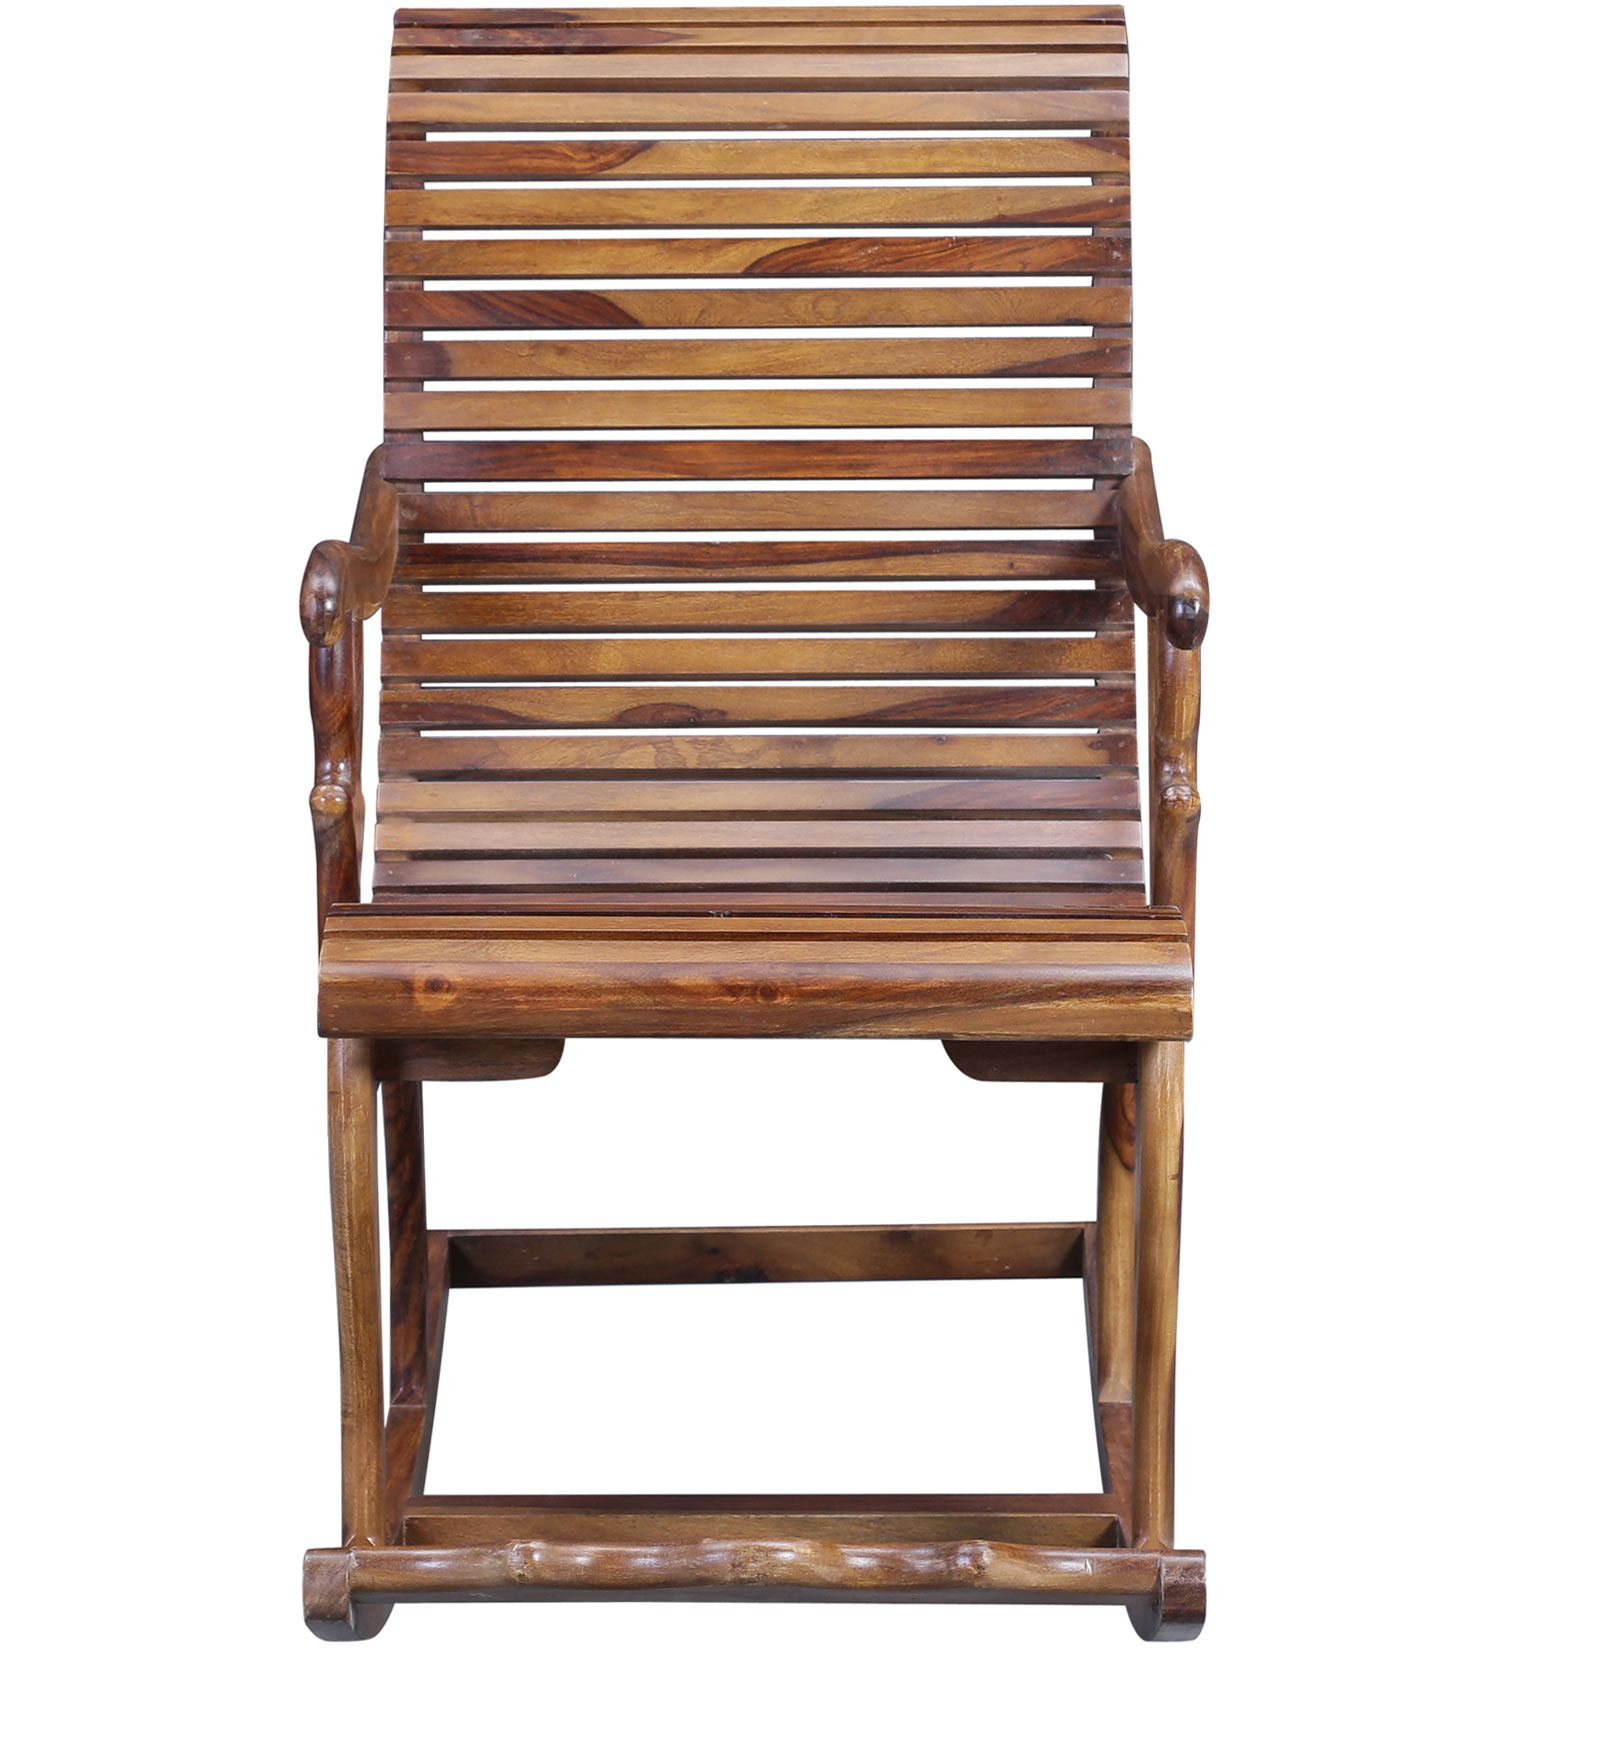Acklom Rocking Chair in Provincial Teak Finish by Amberville: (273, 8, 1252, 1666)
